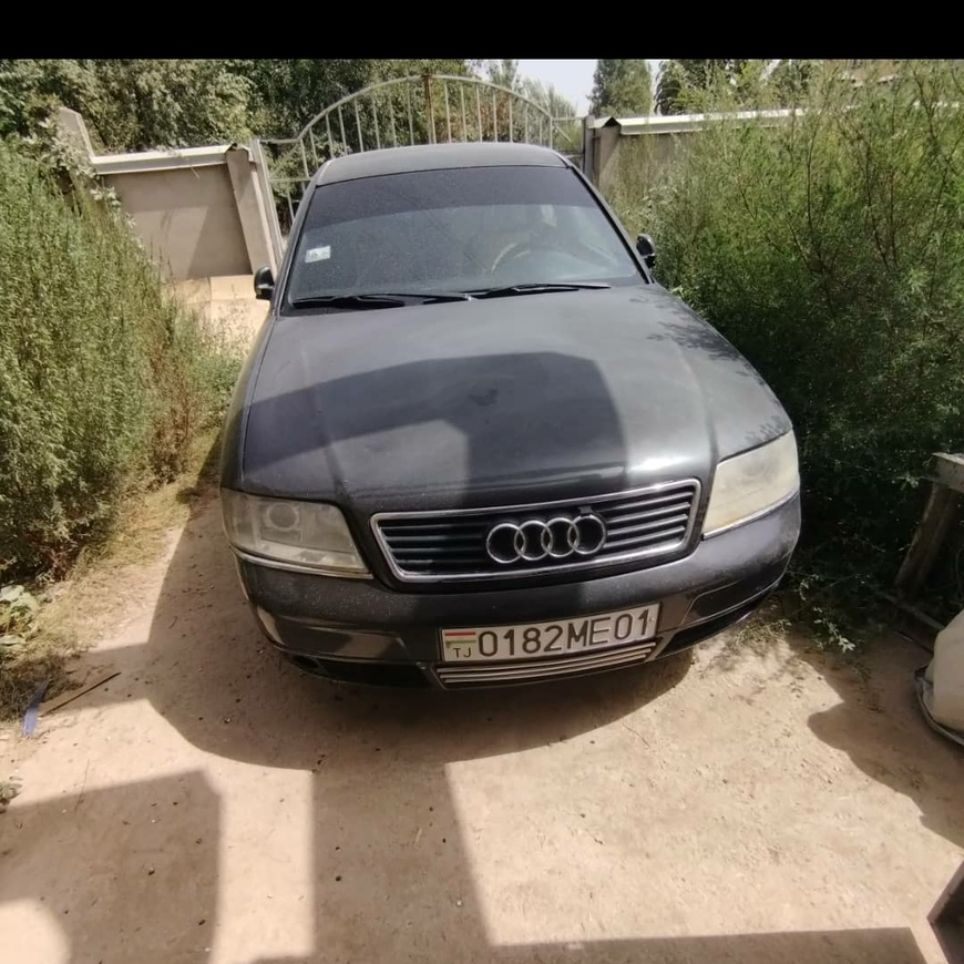license plate: (433, 603, 662, 673)
truck: (218, 142, 809, 707)
